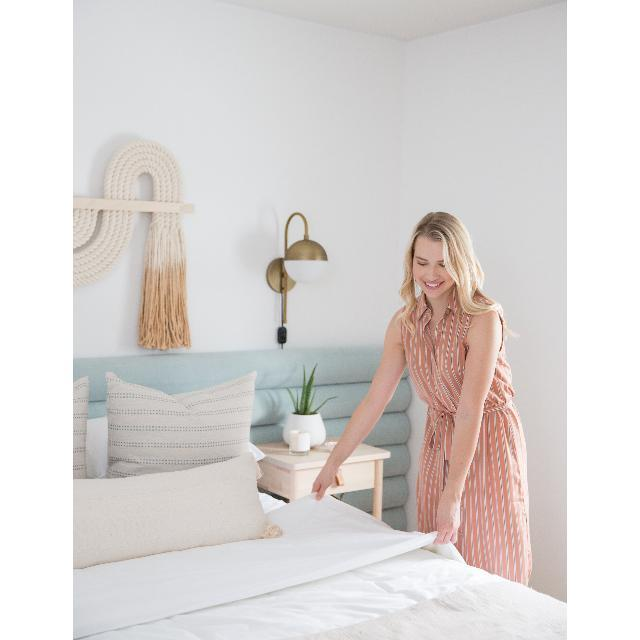pillow: (74, 454, 285, 565), (103, 368, 262, 474)
